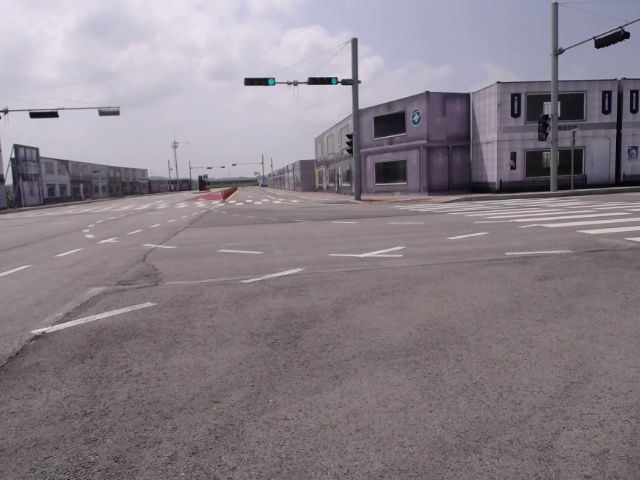straight_green_4: (244, 76, 276, 88), (310, 76, 337, 83)
